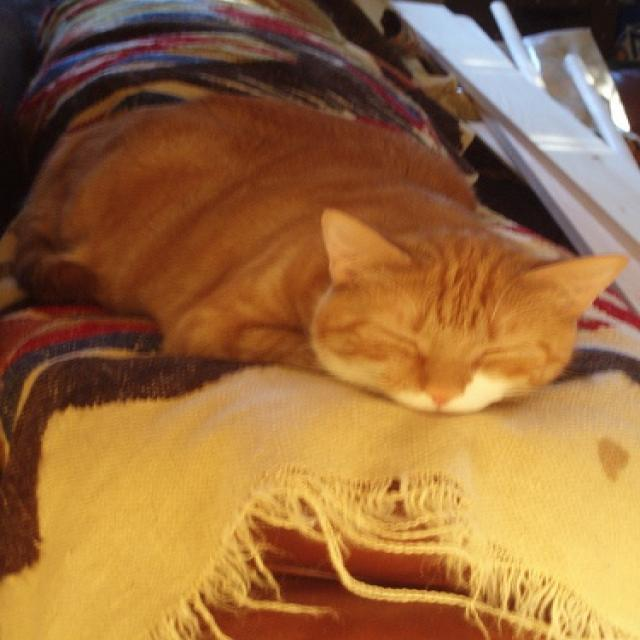cat: (34, 95, 620, 430)
